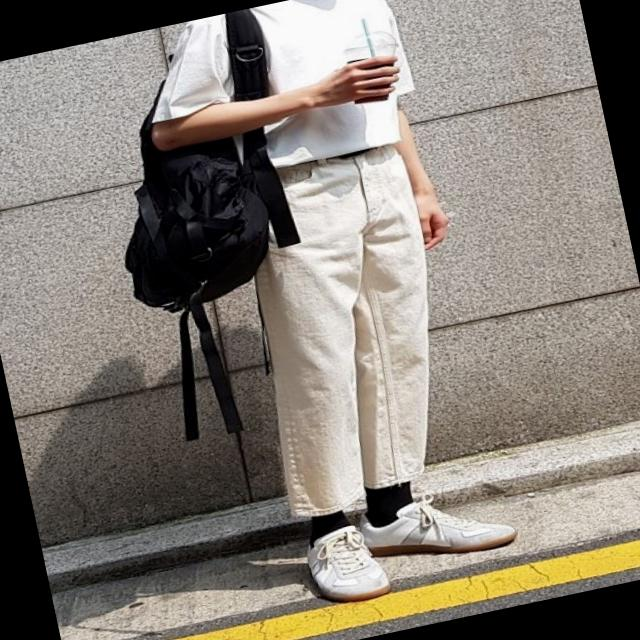cottonpants: (218, 140, 474, 514)
shortsleeve: (130, 0, 430, 197)
